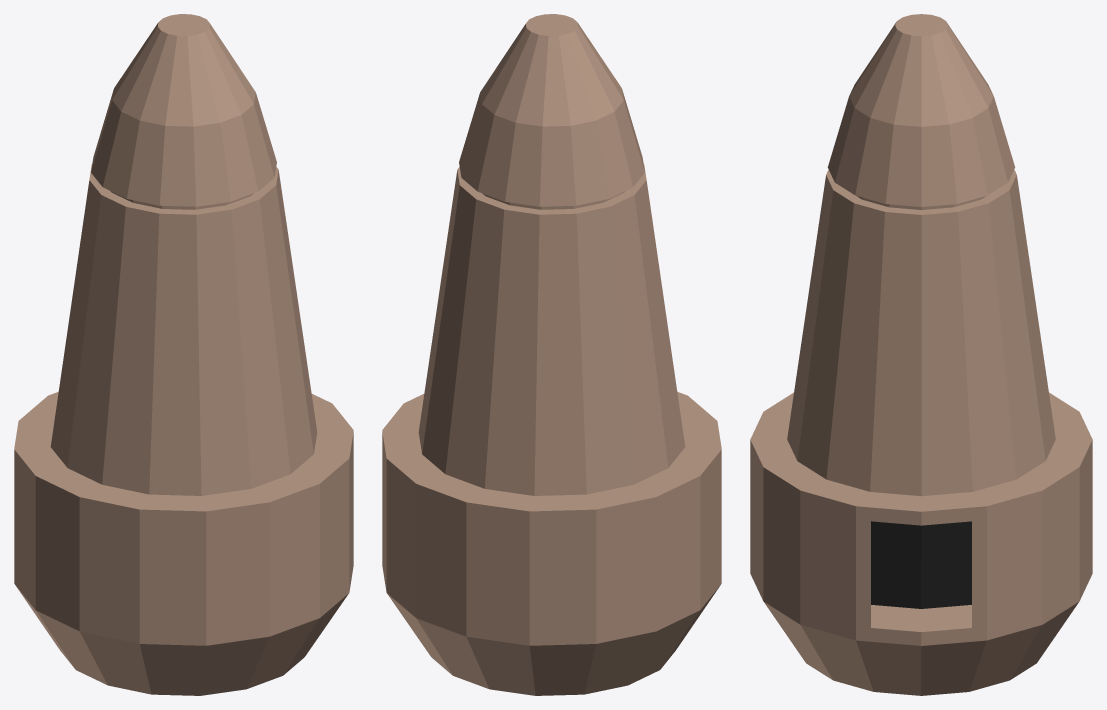
The model's file is statue_2.fbx.
The picture shows the model from 3 angles, left to right: view 1: azimuth 30°, elevation 25°; view 2: azimuth 150°, elevation 25°; view 3: azimuth 270°, elevation 25°; orthographic projection.
Parts seen in each view (by area): view 1: Cube.006; view 2: Cube.006; view 3: Cube.006.
Part boxes in pixels (<box>): Cube.006: <box>14,14,353,695</box>; Cube.006: <box>382,14,721,695</box>; Cube.006: <box>750,14,1092,695</box>.
Bounding box in the file's own units: 285 × 568 × 285.
